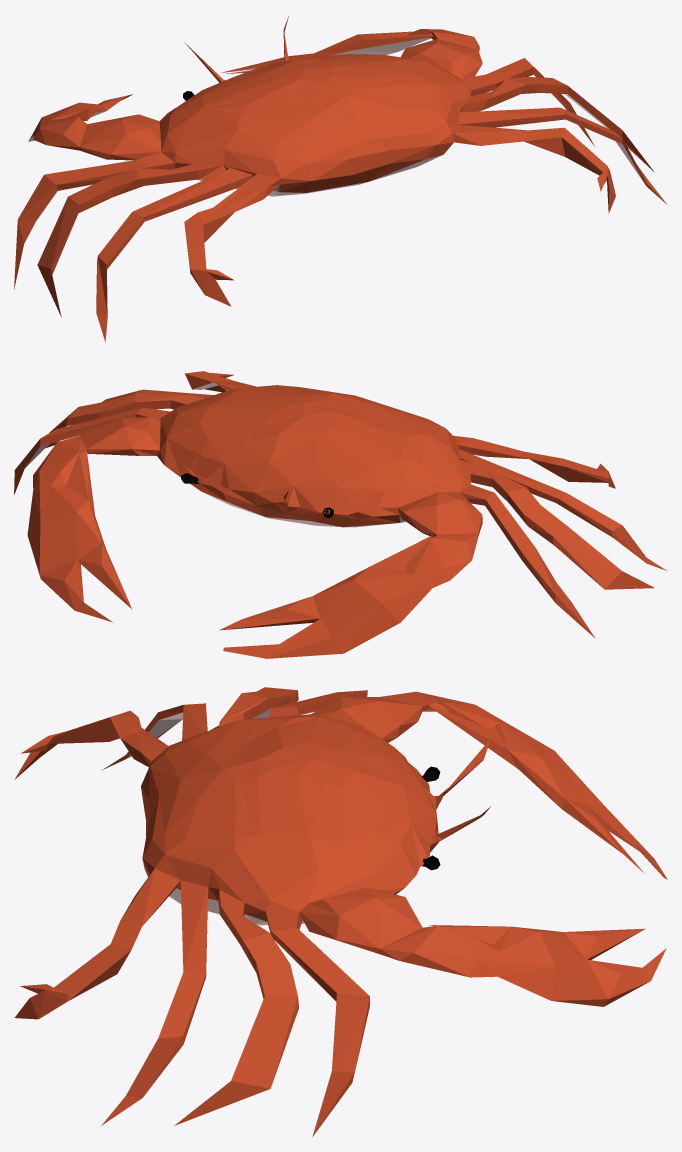
File: crab.glb
3 renders of one model, top to bottom at view 1: azimuth 30°, elevation 25°; view 2: azimuth 150°, elevation 25°; view 3: azimuth 270°, elevation 25°, orthographic. The views are drawn at different scales.
Visible parts, largest first — view 1: crab; view 2: crab; view 3: crab.
Boxes of the visible parts, x1,y1,x2,y2 form: crab: [14, 16, 666, 342]; crab: [14, 371, 666, 658]; crab: [14, 687, 667, 1136].
Size of the model in its own units: 1.25 by 0.3069 by 0.9229.
